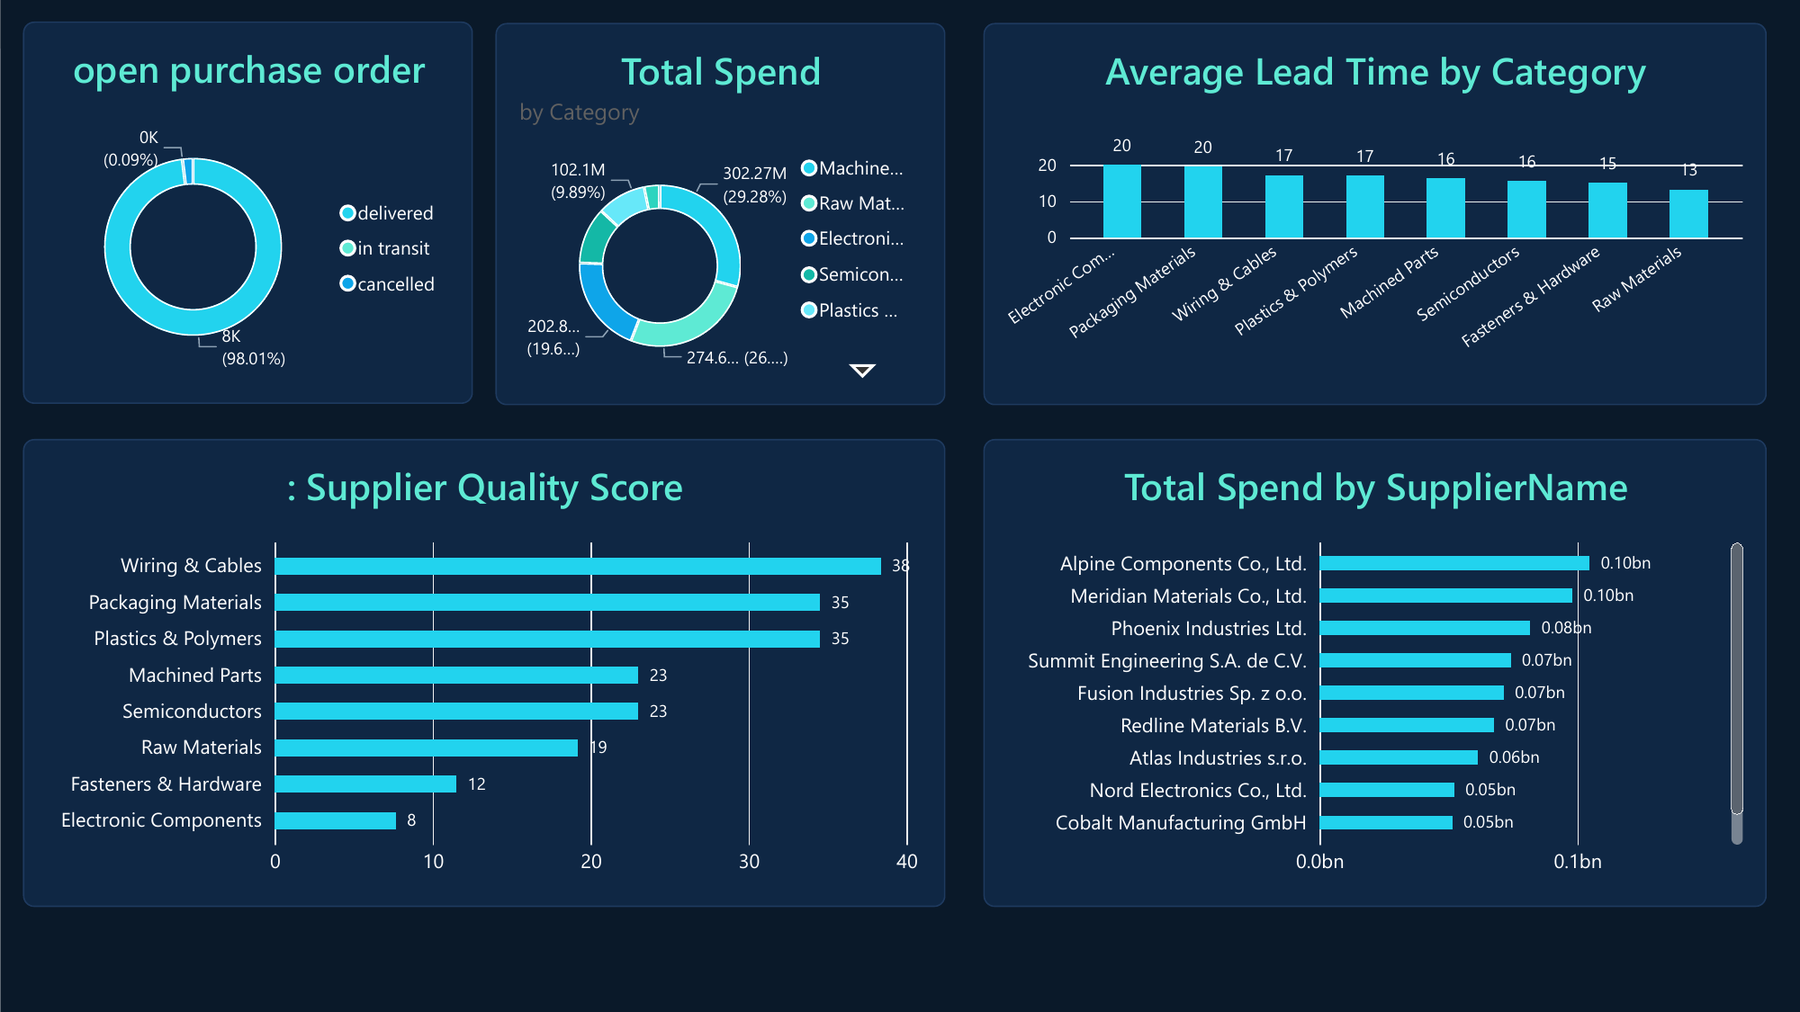

The page's visual inventory and layout, read from the dashboard file:
{"tool":"powerbi","page":{"name":"Procurement Analytics","canvas":[1280,720],"ordinal":1},"visuals":[{"type":"clusteredBarChart","fields":{"Category":["dim_suppliers.SupplierName"],"Y":["fact_sales_orders.Total Spend"]},"box":[699.4,311.5,556.6,334],"z":0},{"type":"donutChart","fields":{"Category":["dim_suppliers.Category"],"Y":["fact_sales_orders.Total Spend"]},"box":[352,16,320,272],"z":1000},{"type":"clusteredColumnChart","fields":{"Category":["dim_suppliers.Category"],"Y":["fact_purchase_orders.Average Lead Time"]},"box":[699.4,16.2,556.6,272],"z":2000},{"type":"clusteredBarChart","title":": Supplier Quality Score","fields":{"Category":["dim_suppliers.Category"],"Y":["Sum(dim_suppliers.Average Quality Rating)"]},"box":[16.2,311.5,655.4,334],"z":3000},{"type":"donutChart","title":"open purchase order","fields":{"Y":["dim_calendar.delivered","dim_calendar.in transit","dim_calendar.cancelled"]},"box":[16.2,15.3,320,272],"z":4000}]}

Visuals, with their boxes in screenshot pixels (x1, y1, x2, y2), scaled from the page's 1280x720 canvas onto the 1800x1012 screenshot:
clusteredBarChart - dim_suppliers.SupplierName x fact_sales_orders.Total Spend: <bbox>984, 438, 1766, 907</bbox>
donutChart - dim_suppliers.Category x fact_sales_orders.Total Spend: <bbox>495, 22, 945, 405</bbox>
clusteredColumnChart - dim_suppliers.Category x fact_purchase_orders.Average Lead Time: <bbox>984, 23, 1766, 405</bbox>
": Supplier Quality Score" clusteredBarChart: <bbox>23, 438, 944, 907</bbox>
"open purchase order" donutChart: <bbox>23, 22, 473, 404</bbox>
